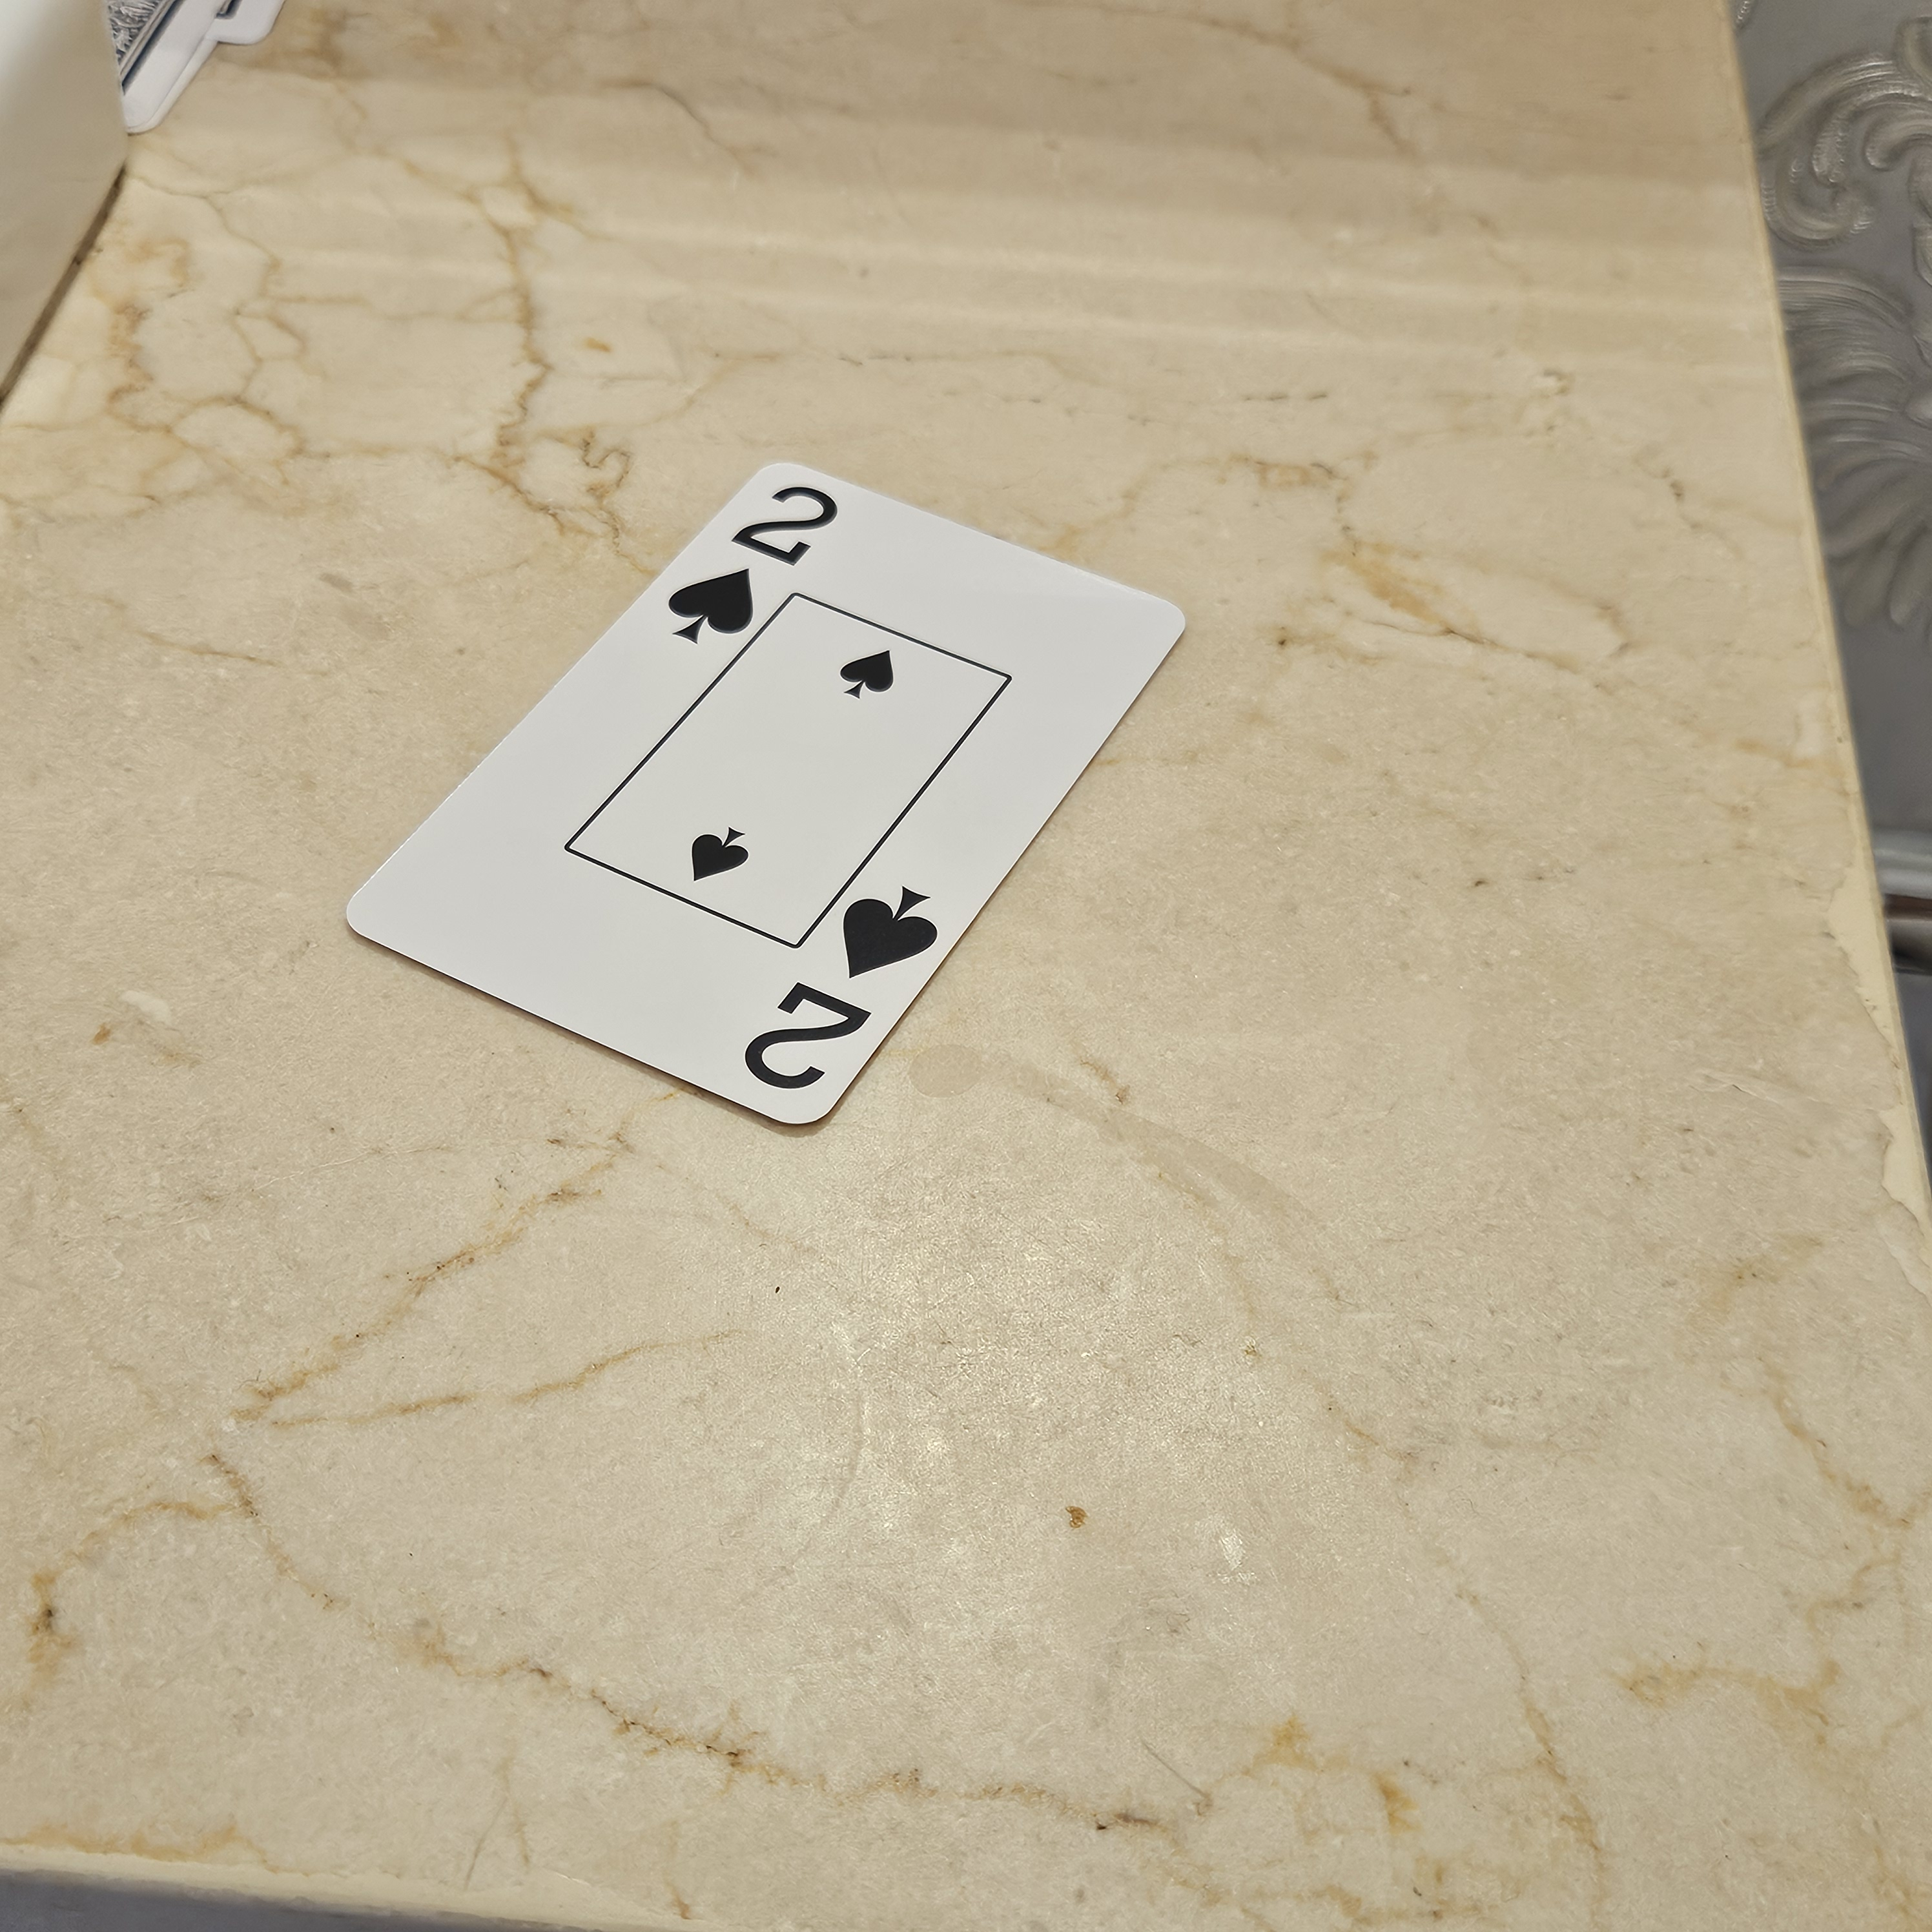2E: (734, 869, 950, 1109), (660, 465, 846, 660)
